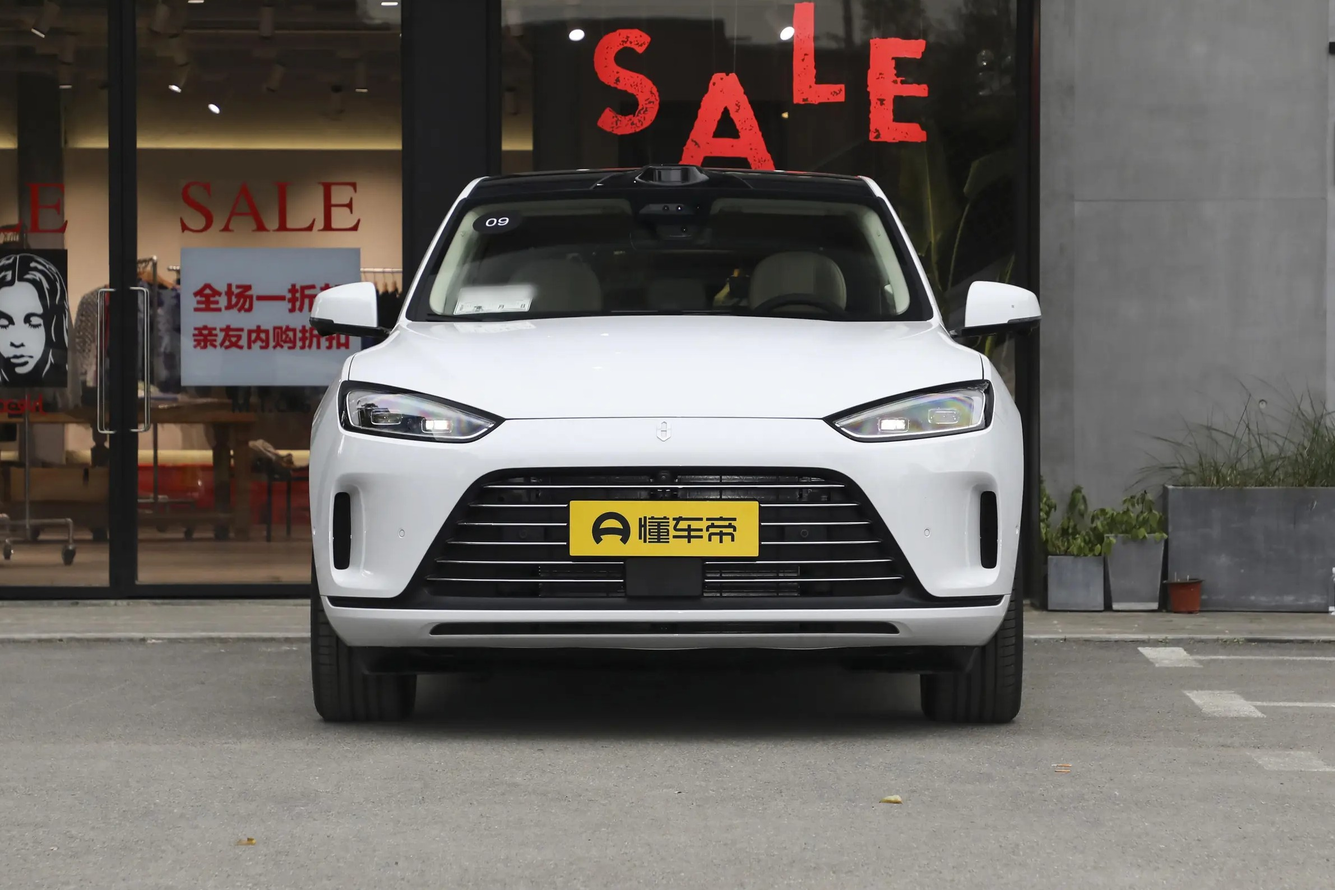AITO: (656, 419, 671, 441)
